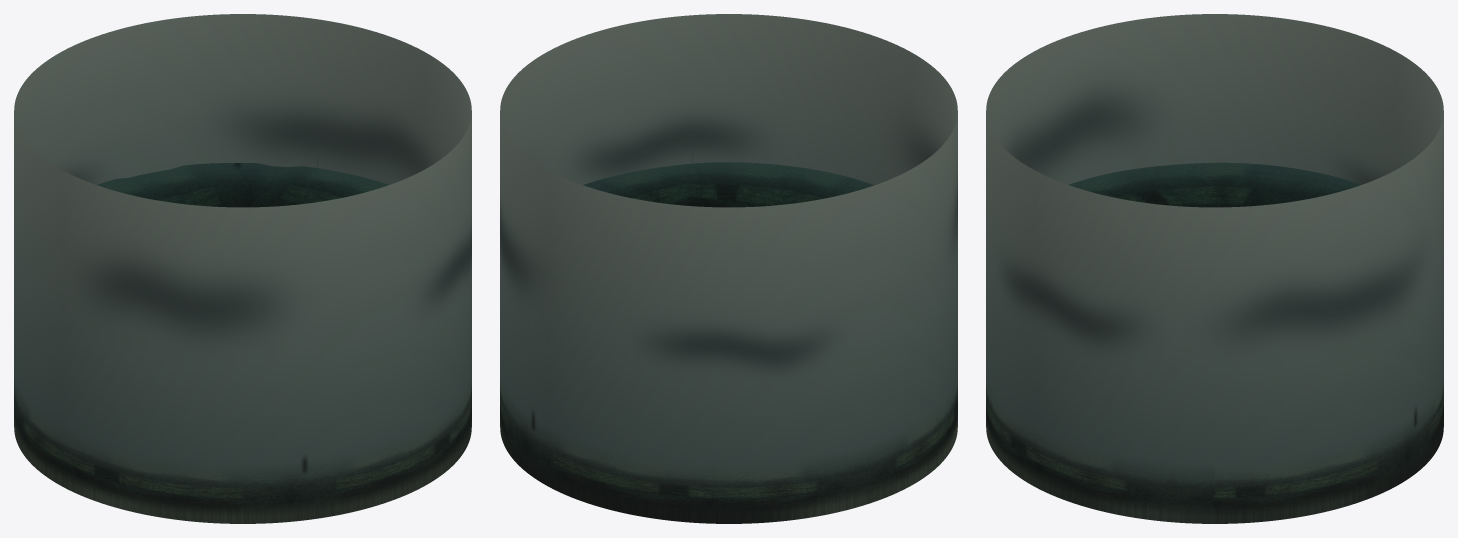
File: deepwater-claim-panorama.glb
3 views of the same model, side by side, from view 1: azimuth 30°, elevation 25°; view 2: azimuth 150°, elevation 25°; view 3: azimuth 270°, elevation 25° (orthographic).
Parts seen in each view (by area): view 1: DeepwaterClaimPanorama; view 2: DeepwaterClaimPanorama; view 3: DeepwaterClaimPanorama.
Part boxes in pixels (x1,y1,x2,y2): DeepwaterClaimPanorama: [14, 14, 471, 523]; DeepwaterClaimPanorama: [500, 14, 957, 523]; DeepwaterClaimPanorama: [986, 14, 1443, 523].
Bounding box in the file's own units: 380 × 290 × 380.
Materials: 1 (1 with a texture image).
